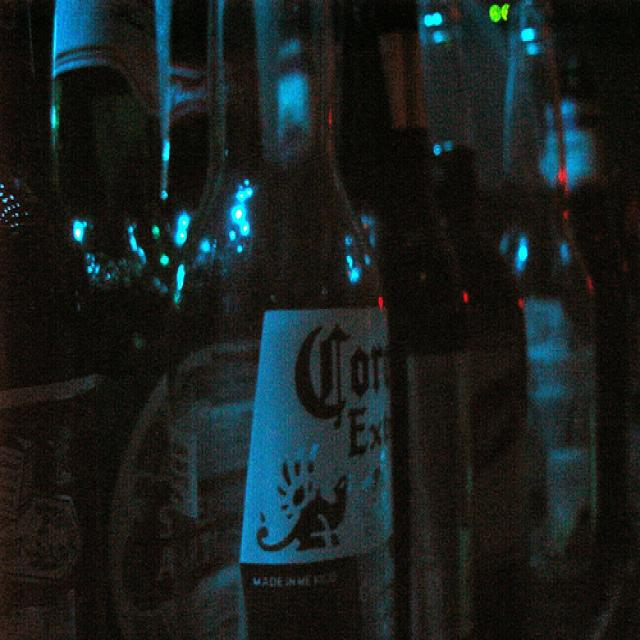Bottle: (43, 1, 218, 592), (244, 16, 402, 611), (467, 0, 609, 587), (402, 11, 498, 617)
